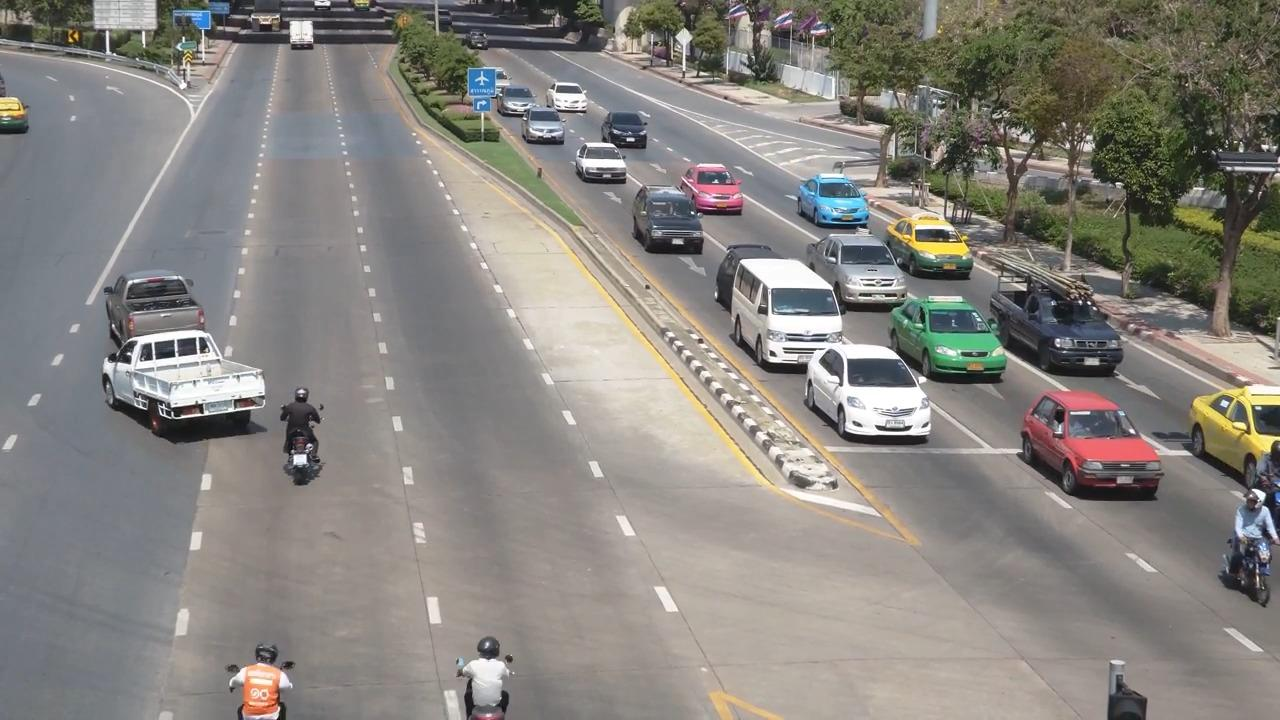CAR: (100, 326, 271, 447), (990, 258, 1132, 382), (1023, 382, 1161, 498), (793, 331, 931, 438), (731, 251, 844, 370), (888, 288, 1007, 381), (1193, 373, 1280, 485), (103, 266, 221, 343), (812, 229, 909, 309), (626, 182, 714, 264), (789, 167, 883, 236), (887, 206, 974, 280), (271, 11, 334, 75), (677, 160, 750, 215), (577, 135, 633, 190), (605, 103, 660, 153), (544, 71, 592, 113), (523, 106, 571, 146), (499, 76, 533, 121)
MOTOR: (249, 378, 344, 510), (204, 629, 313, 720), (442, 625, 539, 720), (1218, 487, 1278, 625), (1254, 425, 1280, 513)
